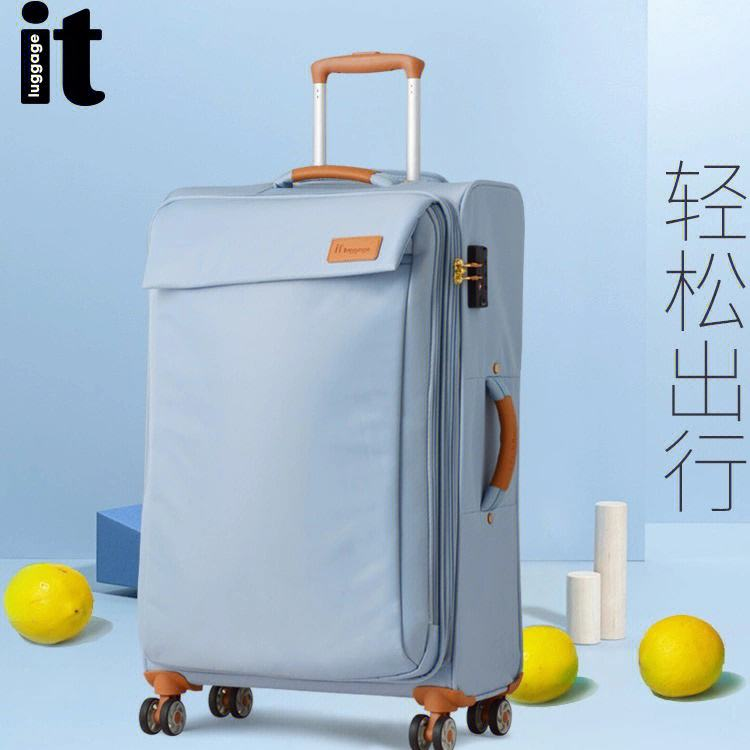box: (137, 181, 524, 703)
handle: (480, 377, 518, 510), (267, 164, 401, 190)
lock: (459, 245, 488, 308)
wheel: (138, 697, 186, 736), (408, 714, 457, 750), (466, 697, 512, 735), (208, 686, 253, 719)
